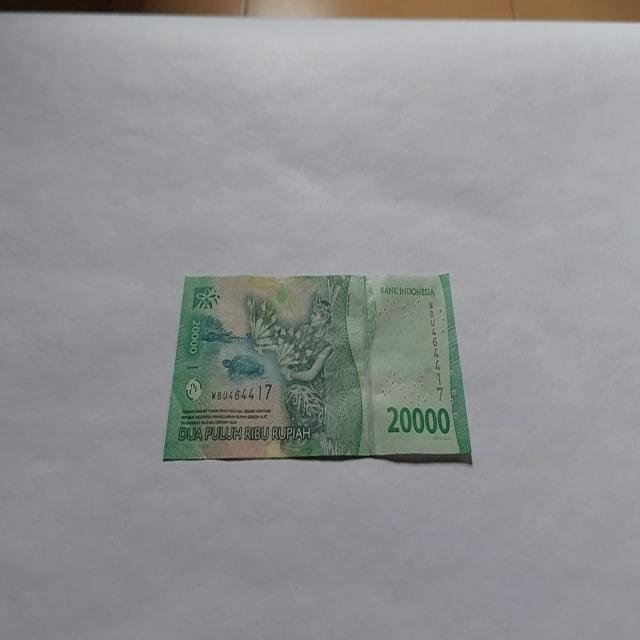dua puluh ribu rupiah: (162, 270, 472, 464)
